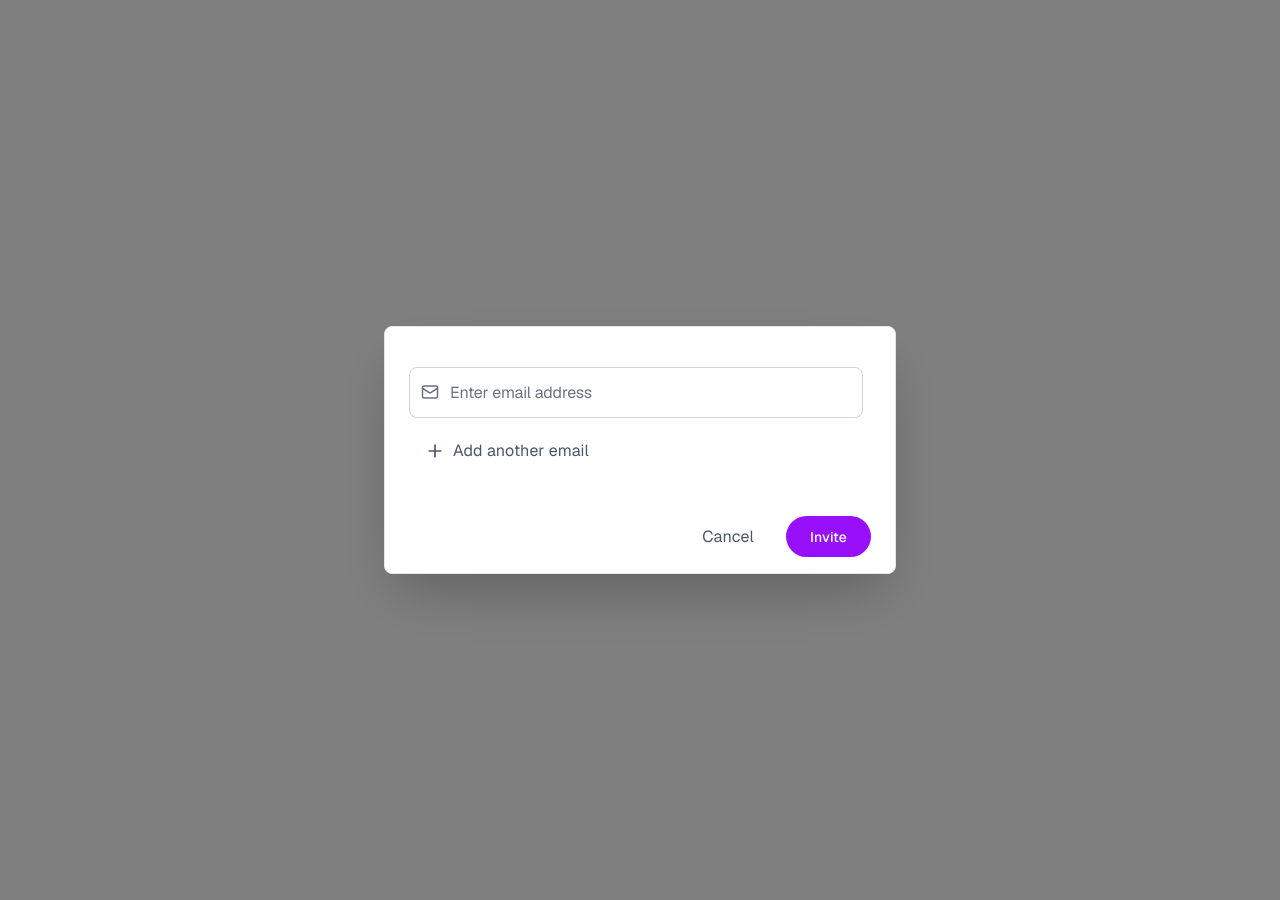
Scenario: InviteMembersDialog Component › should validate email format and show error messages
This screenshot has width=1280, height=900.
# Enter an invalid email
Type "invalid-email" into the field with placeholder "Enter email address" at (636, 392), box [409, 367, 863, 418]
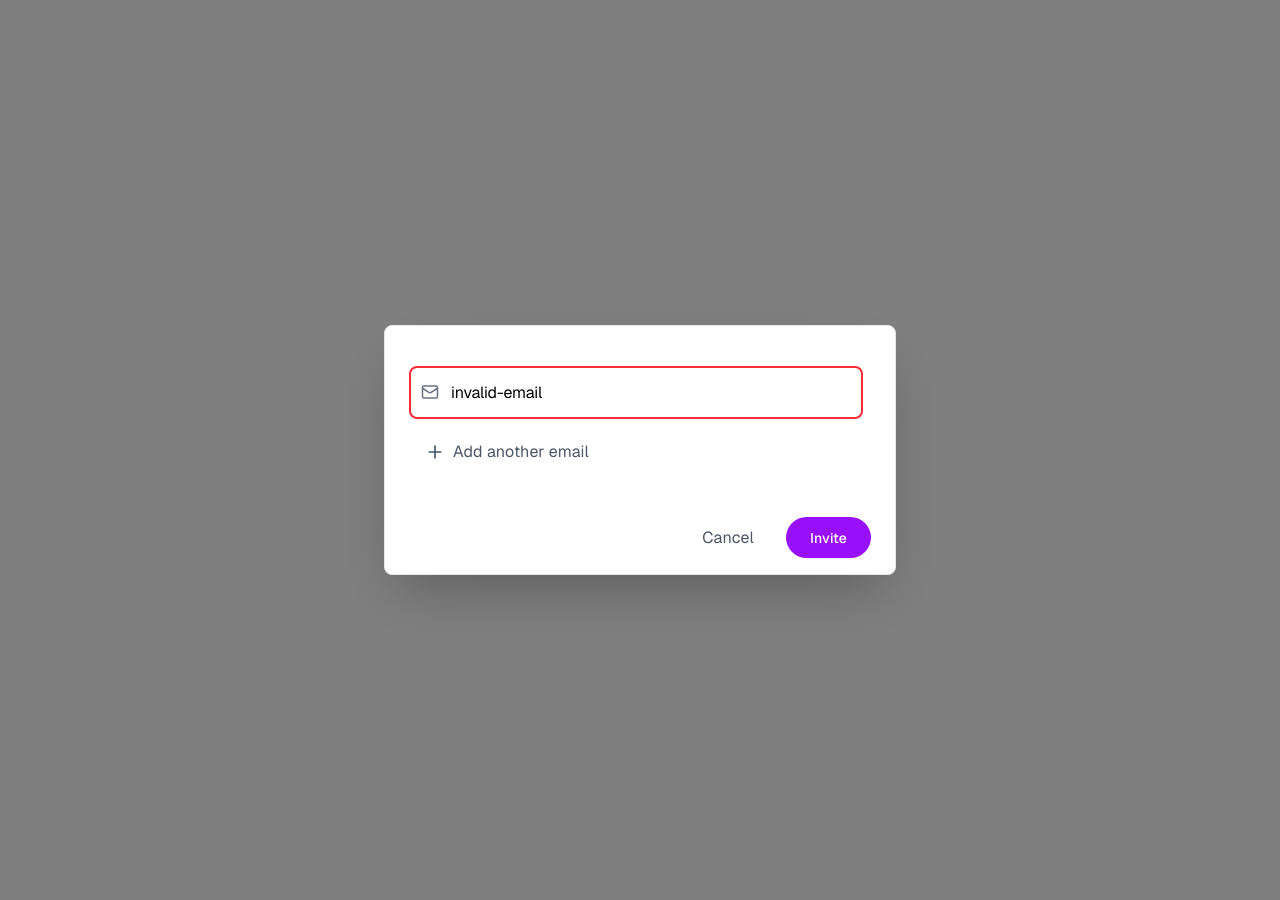
# Try to submit
Click the button "Invite" at (828, 538), box [786, 517, 871, 558]
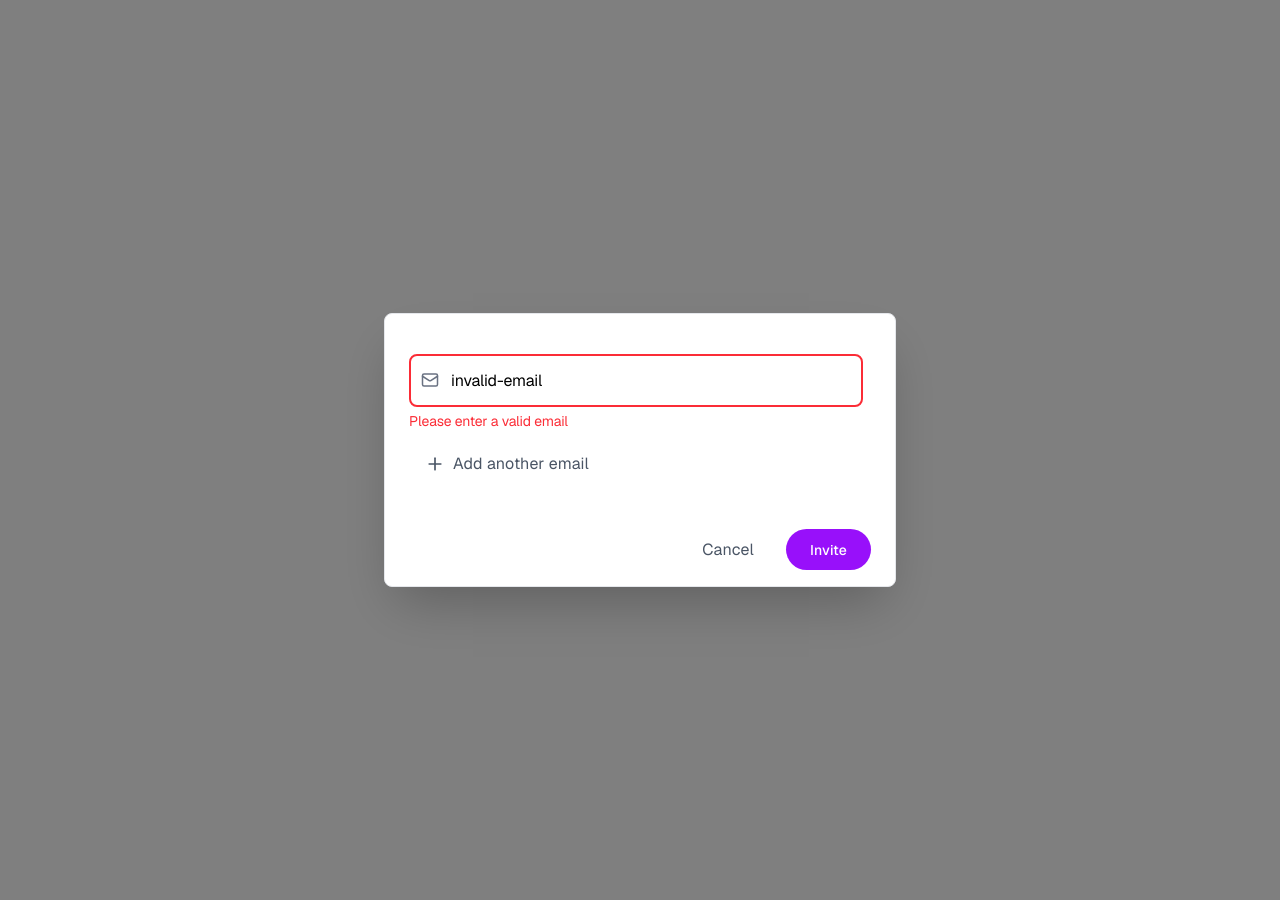
Now the text "Please enter a valid email" is shown, box [409, 412, 568, 430]
